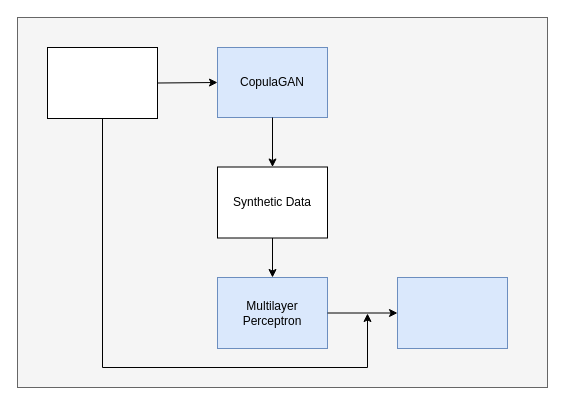
Image size: 565x405. Some labels were removed from this diagram. Each missing label, with the box of its shape:
Fine Tuned MLP: (396, 276, 508, 348)
GRS + Selected Clinical Variables: (46, 46, 158, 118)
